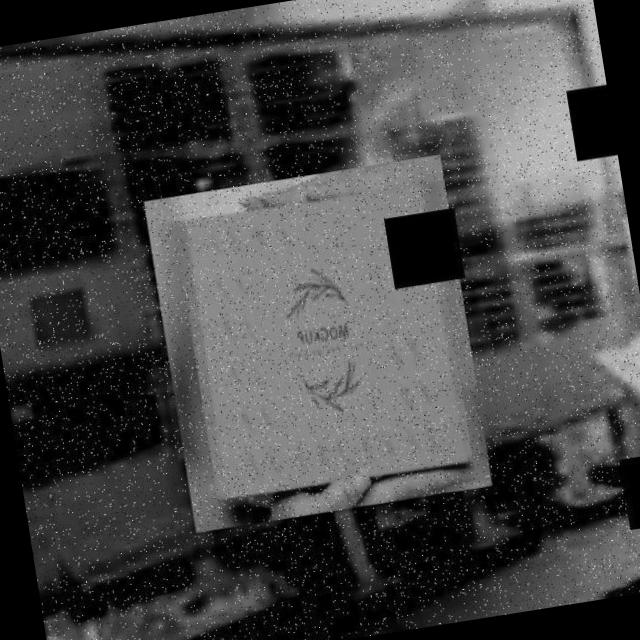box: (138, 149, 498, 540)
